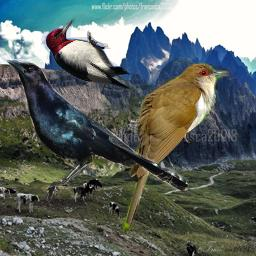Crow: (6, 60, 189, 201)
Cuckoo: (123, 61, 229, 238)
Woodpecker: (41, 18, 136, 90)
